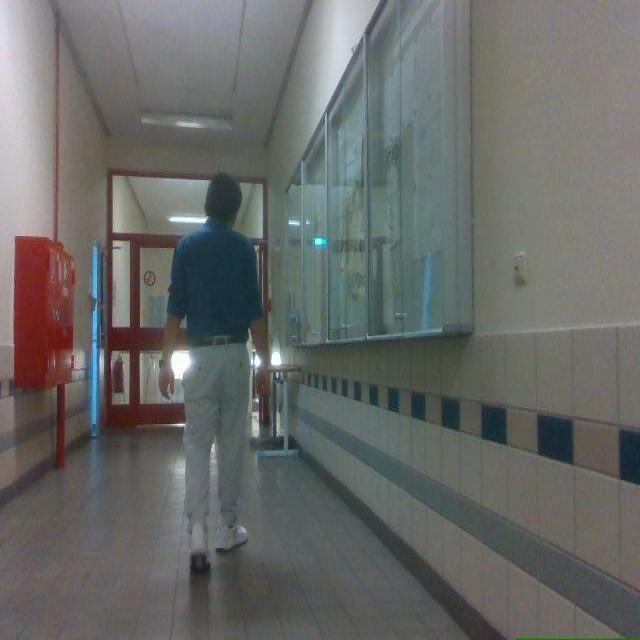humans: (158, 172, 267, 572)
